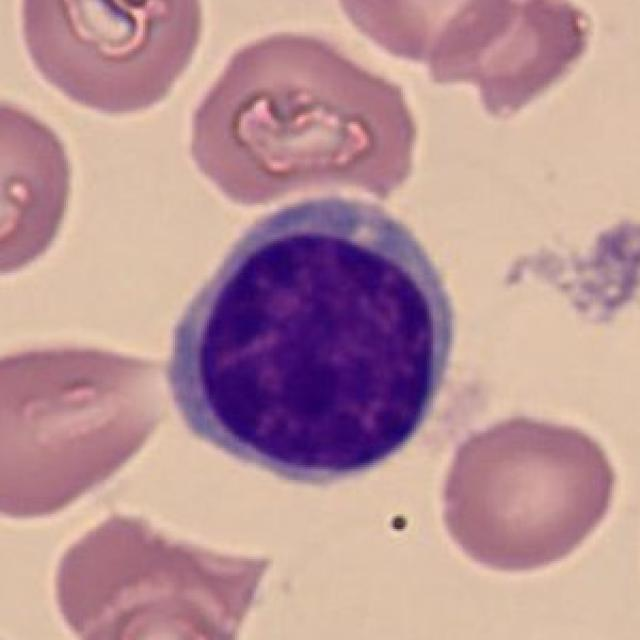WBC: (151, 185, 480, 492)
